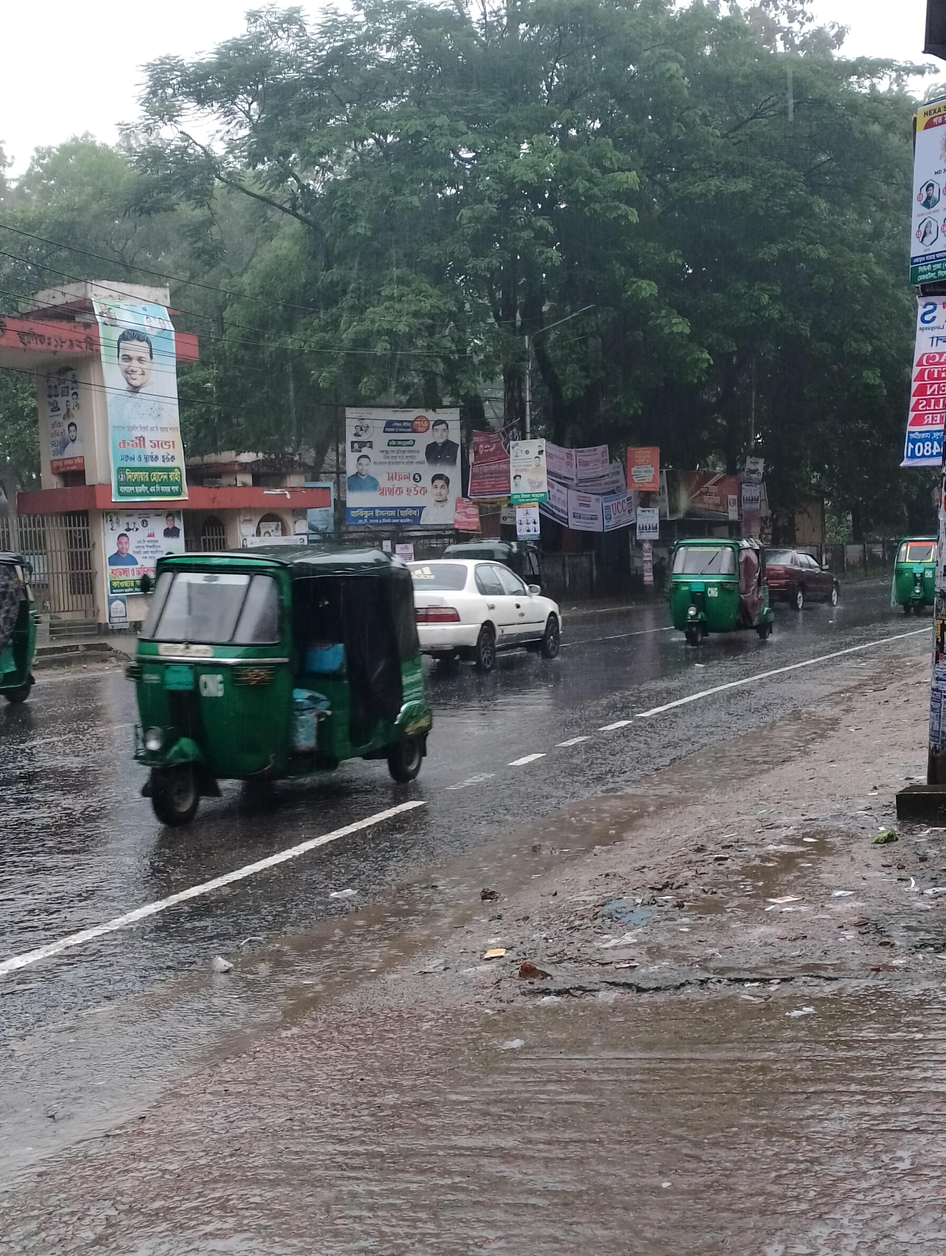Car: (386, 532, 579, 699), (764, 530, 850, 622)
